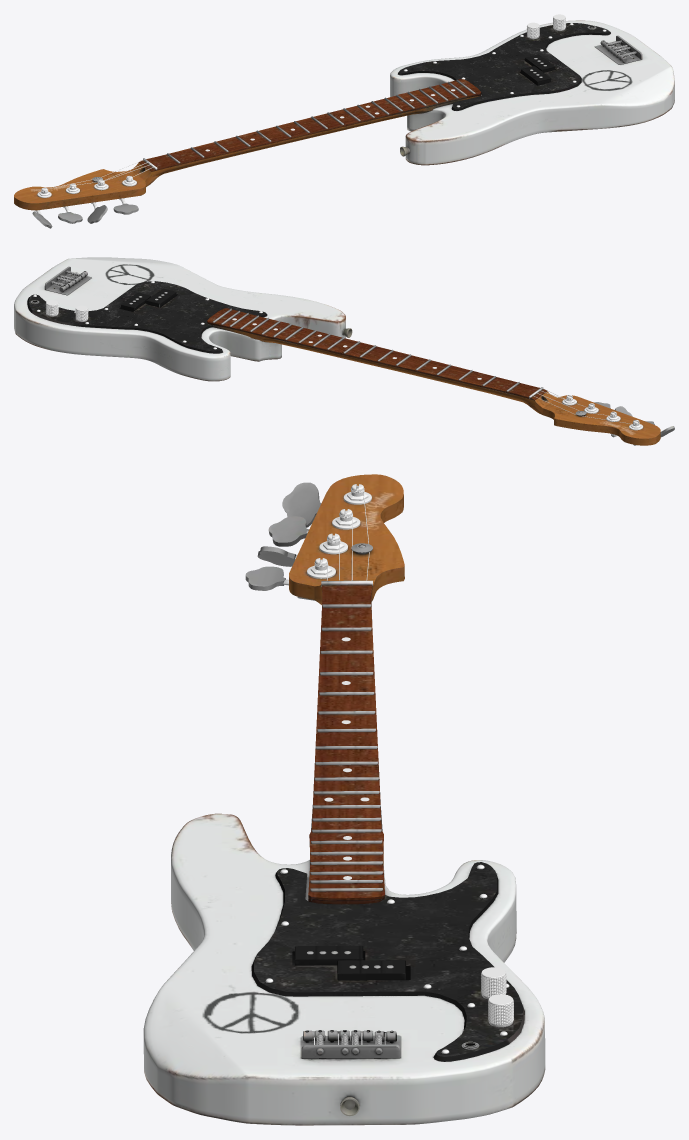
File: guitar-bass.glb
3 renders of one model, top to bottom at view 1: azimuth 30°, elevation 25°; view 2: azimuth 150°, elevation 25°; view 3: azimuth 270°, elevation 25°, orthographic. The views are drawn at different scales.
Parts seen in each view (by area): view 1: part4, part2, part3, part1, part34, part6; view 2: part4, part2, part3, part1, part34, part6, stringEnds, part5; view 3: part4, part2, part3, part1, part34, part5, part6, part12.
Part boxes in pixels (<box>): part4: <box>390,20,674,165</box>; part2: <box>398,23,610,110</box>; part3: <box>139,79,481,171</box>; part1: <box>14,95,480,210</box>; part34: <box>92,25,642,182</box>; part6: <box>521,66,551,85</box>; part4: <box>14,257,345,381</box>; part2: <box>27,281,267,353</box>; part3: <box>207,308,547,400</box>; part1: <box>207,323,660,445</box>; part34: <box>30,266,586,416</box>; part6: <box>146,288,176,307</box>; stringEnds: <box>55,272,639,424</box>; part5: <box>121,292,150,311</box>; part4: <box>143,813,545,1125</box>; part2: <box>251,862,524,1061</box>; part3: <box>308,584,384,900</box>; part1: <box>289,474,404,904</box>; part34: <box>301,543,479,1116</box>; part5: <box>337,960,405,980</box>; part6: <box>295,945,363,965</box>; part12: <box>282,482,321,527</box>.
Bounding box in the file's own units: 32.69 × 1.93 × 9.04.
35 materials, 14 textured.
